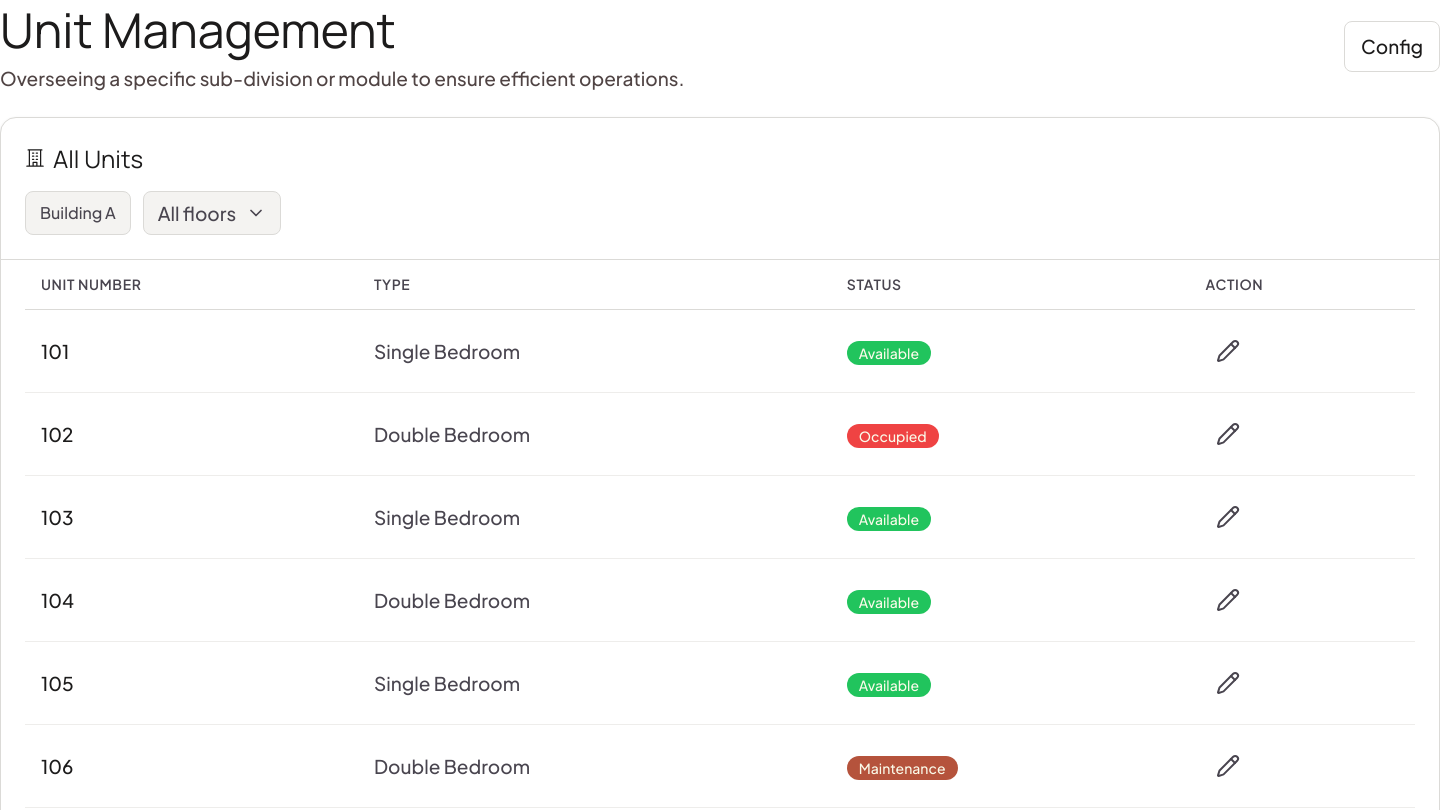
US-15-S2 release a unit after maintenance › returns an occupied unit to Occupied after maintenance is finished
expect the text "101" is shown: met, box [25,310,358,393]
Click the button named "Set status for unit 102" at (1228, 434), box [1206,412,1250,456]
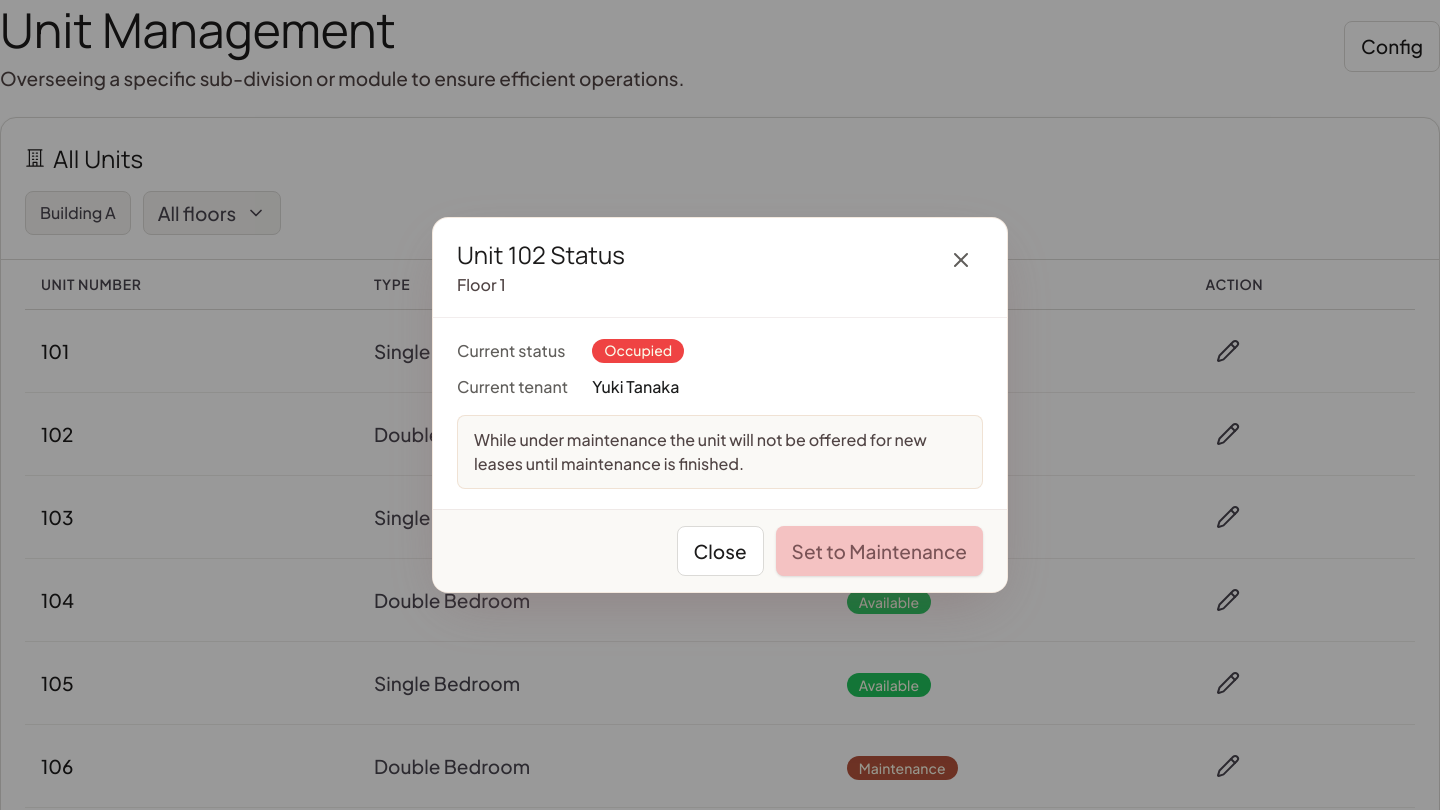
Click the button "Set to Maintenance" at (879, 551), box [776,526,983,576]
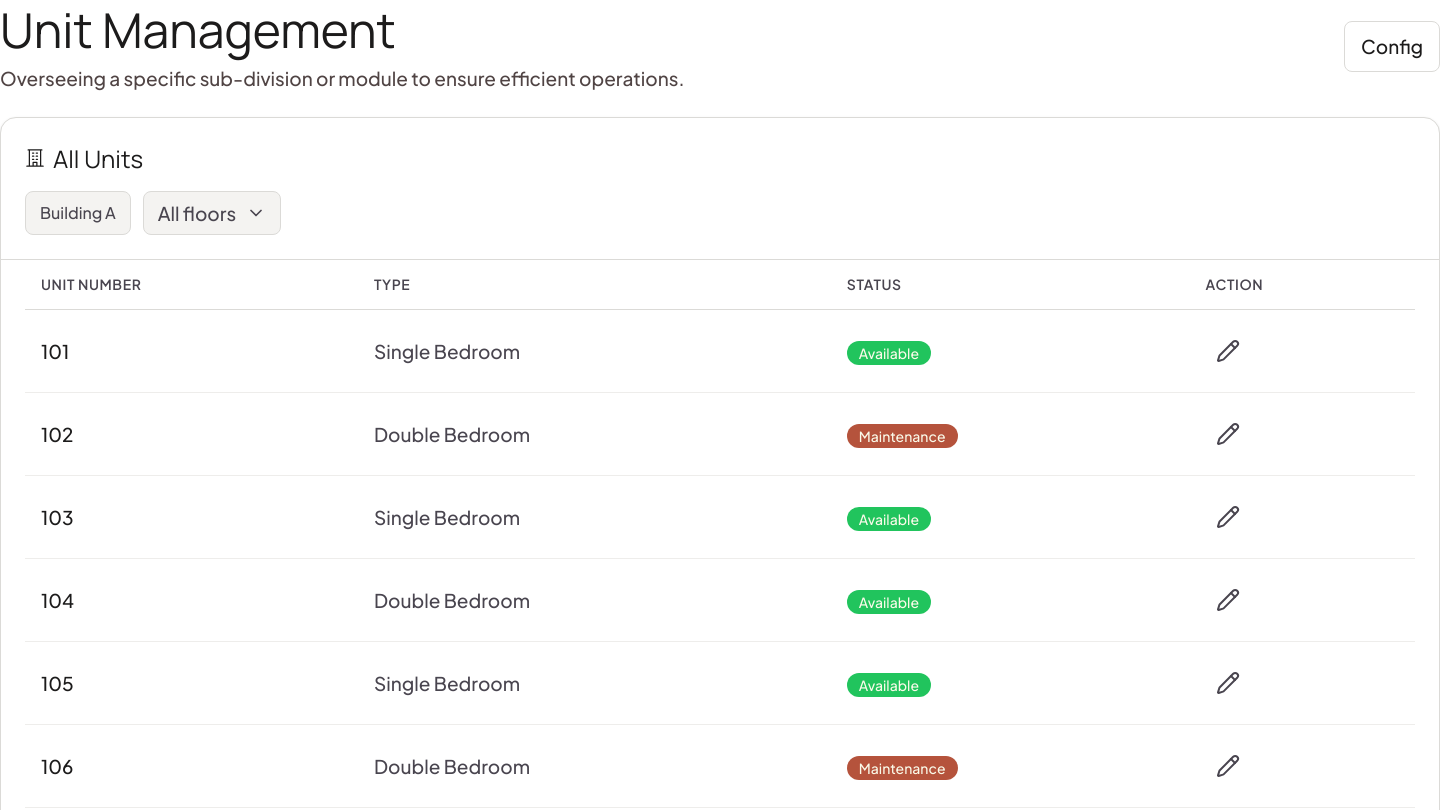
expect the text "Maintenance" in the row of "102" is shown: met, box [859,427,946,445]
expect the dialog is gone: met
Click the button named "Set status for unit 102" at (1228, 434), box [1206,412,1250,456]
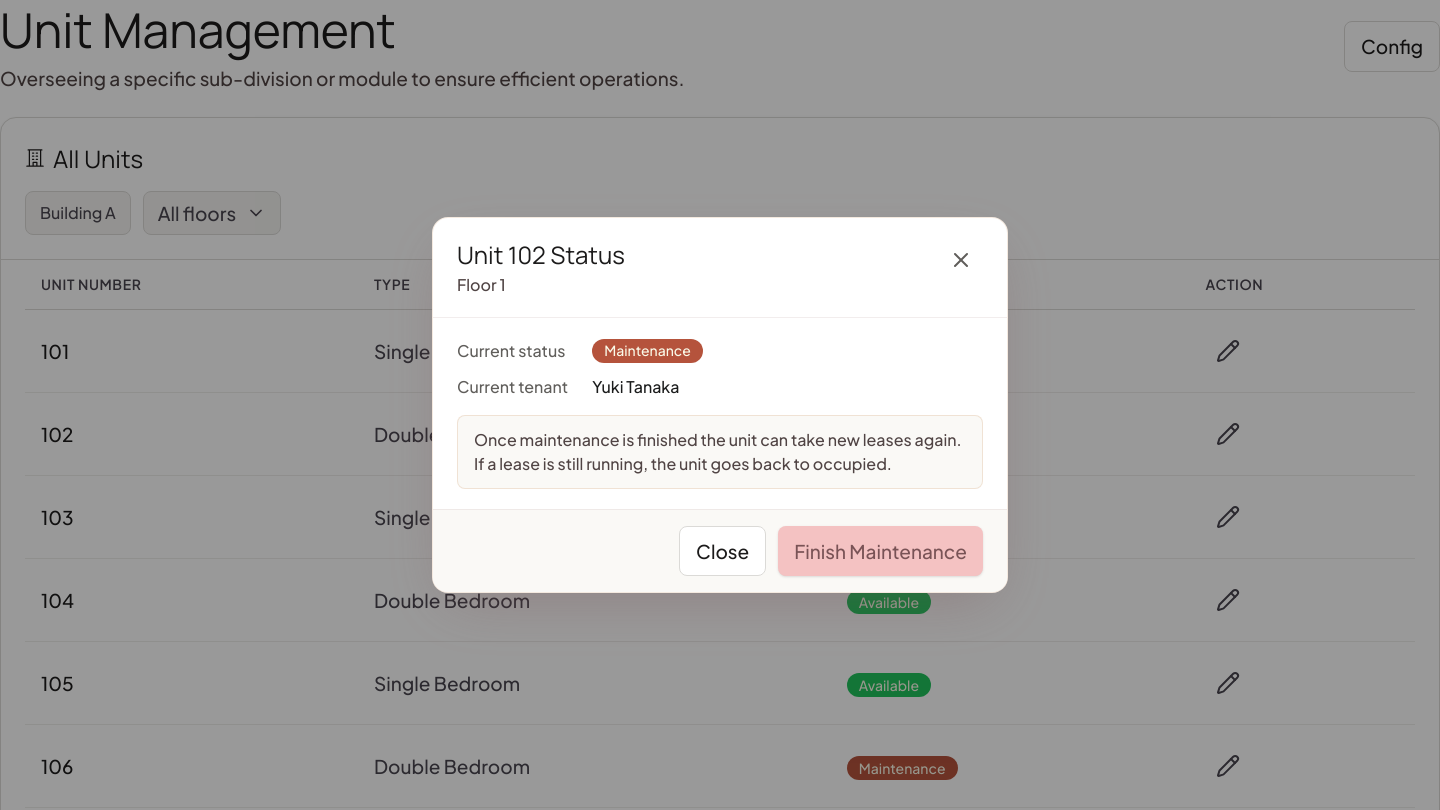
expect the text "Yuki Tanaka" is shown: met, box [592,376,680,397]
Click the button "Finish Maintenance" at (881, 551), box [778,526,983,576]
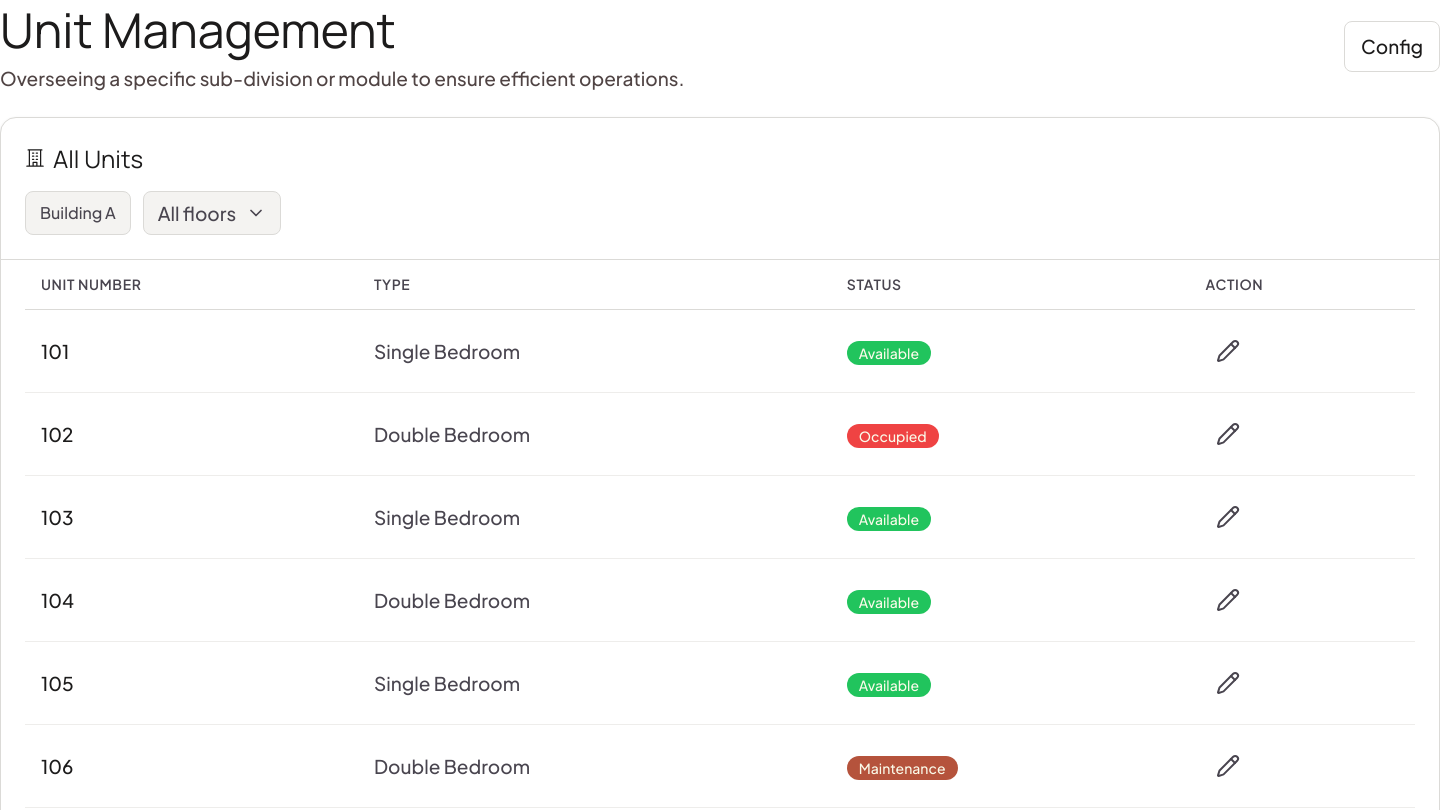
expect the text "Occupied" is shown: met, box [847,424,939,448]
expect the dialog is gone: met
